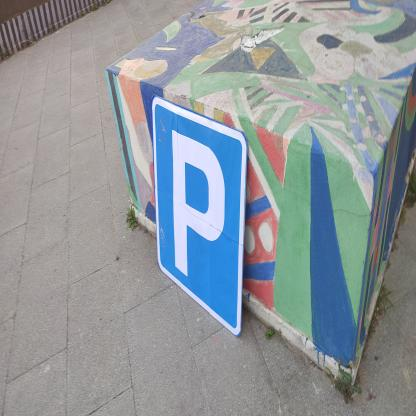Parking-Sign: (153, 97, 250, 341)
